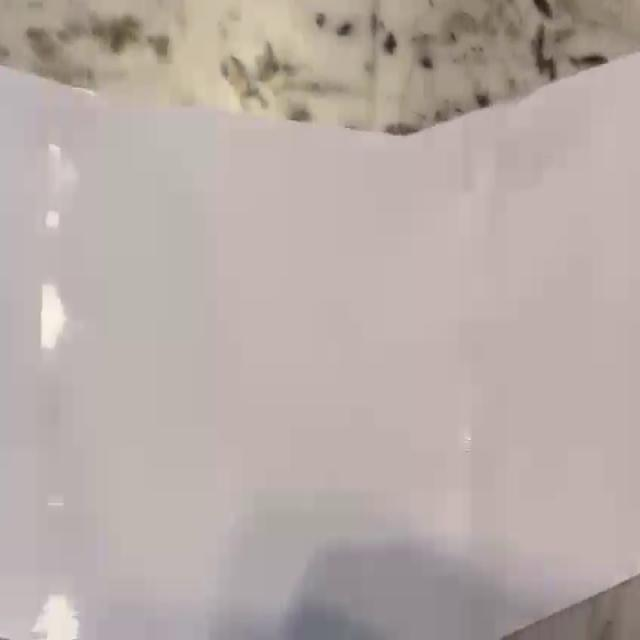road: (0, 53, 640, 639)
